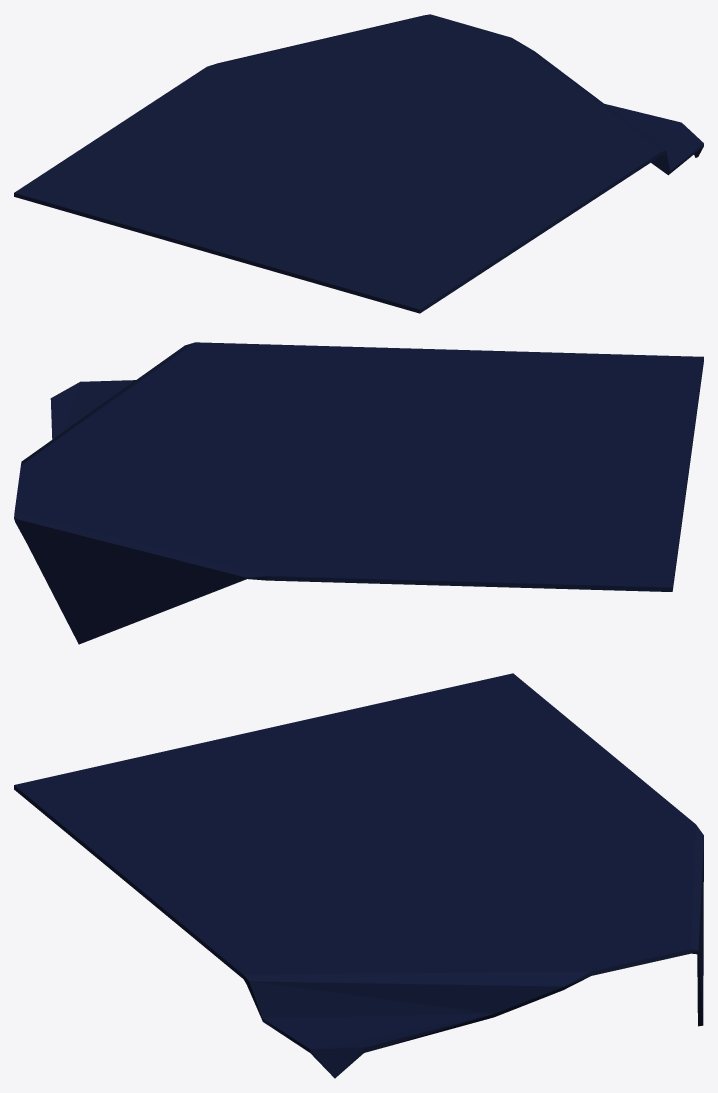
File: carpet.glb
3 views of the same model, one above another, from view 1: azimuth 30°, elevation 25°; view 2: azimuth 150°, elevation 25°; view 3: azimuth 270°, elevation 25° (orthographic). The views are drawn at different scales.
Parts seen in each view (by area): view 1: carpet; view 2: carpet; view 3: carpet.
Boxes of the visible parts, x1,y1,x2,y2 form: carpet: (14,14,703,313); carpet: (14,342,703,644); carpet: (14,673,703,1078).
Bounding box in the file's own units: 2.4 × 0.366 × 2.05.
